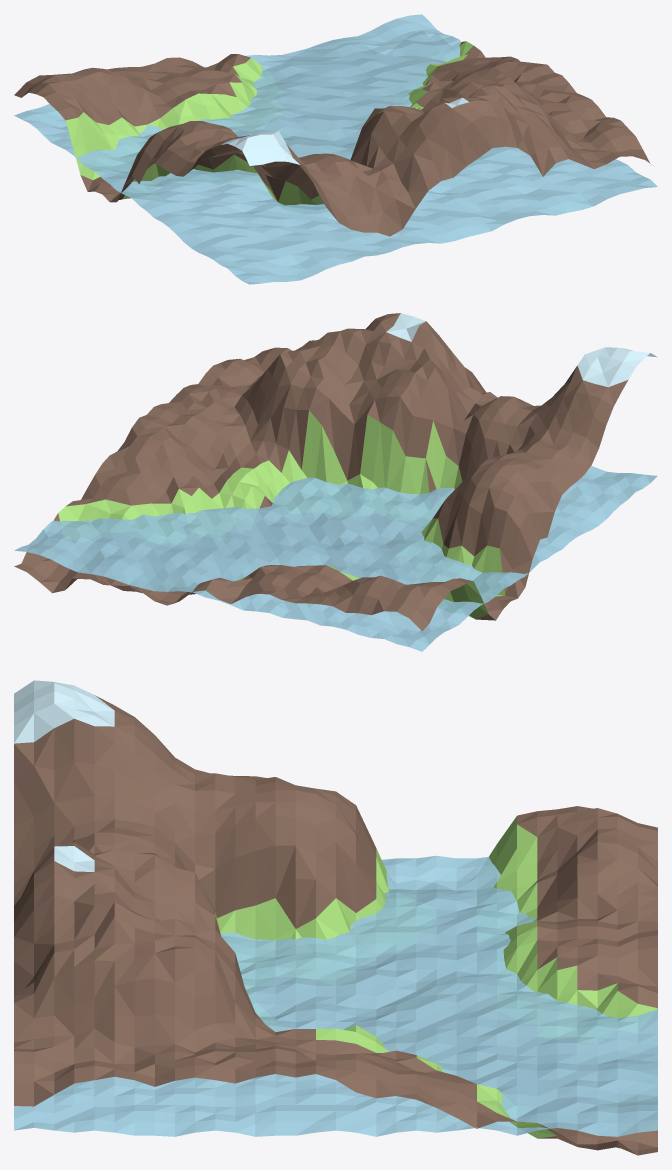
Rendered from LowPolyField_.fbx.
3 views of the same model, one above another, from view 1: azimuth 30°, elevation 25°; view 2: azimuth 150°, elevation 25°; view 3: azimuth 270°, elevation 25° (orthographic). The views are drawn at different scales.
Parts seen in each view (by area): view 1: 평면, 평면.001; view 2: 평면, 평면.001; view 3: 평면, 평면.001.
Boxes of the visible parts, bbox=[...] form: 평면: bbox=[14, 41, 651, 236]; 평면.001: bbox=[14, 14, 657, 284]; 평면: bbox=[14, 313, 657, 631]; 평면.001: bbox=[14, 465, 657, 651]; 평면: bbox=[14, 680, 657, 1155]; 평면.001: bbox=[14, 855, 657, 1136].
Size of the model in its own units: 200 by 78.6 by 200.
